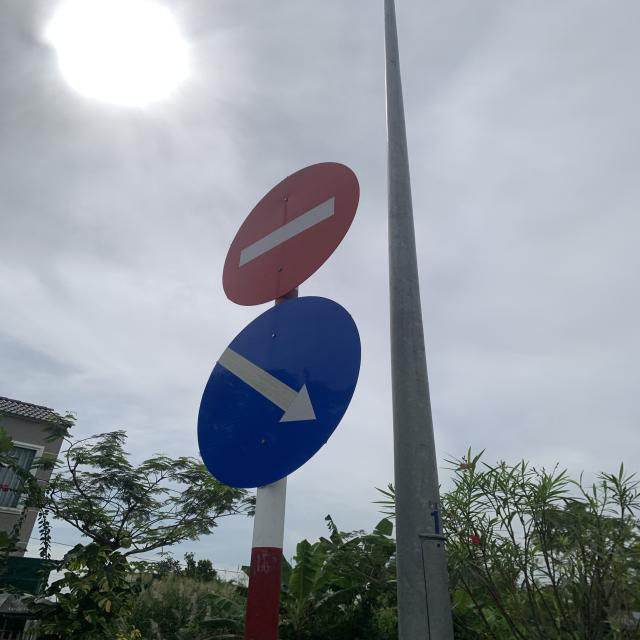Cam_Di_Nguoc_Chieu: (223, 162, 362, 305)
Chi_Huong_Di_Phai: (197, 295, 364, 490)
